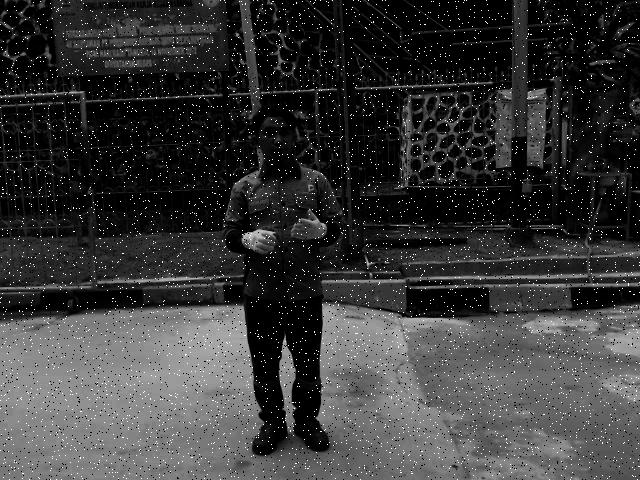gloves: (287, 201, 329, 250), (239, 225, 281, 259)
safety-shoes: (289, 413, 336, 455), (247, 418, 291, 459)
